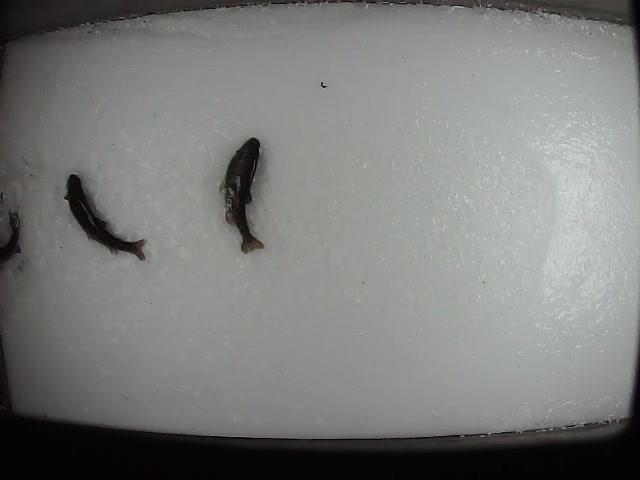fish: (63, 172, 150, 262), (221, 132, 266, 254)
